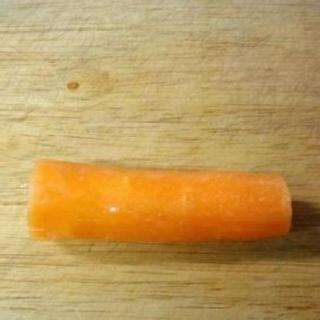carrot: (24, 156, 304, 248)
